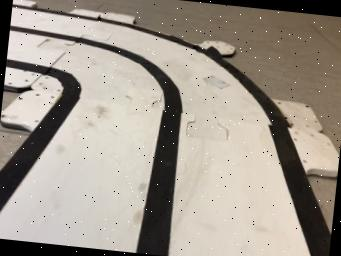street: (0, 3, 332, 256), (0, 3, 332, 256), (0, 3, 332, 256), (0, 3, 332, 256), (0, 3, 332, 256), (0, 3, 332, 256)
